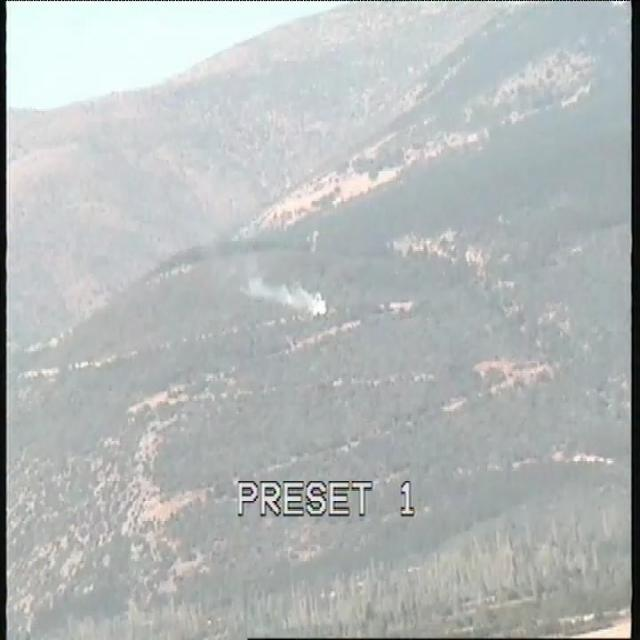smoke: (242, 271, 336, 313)
